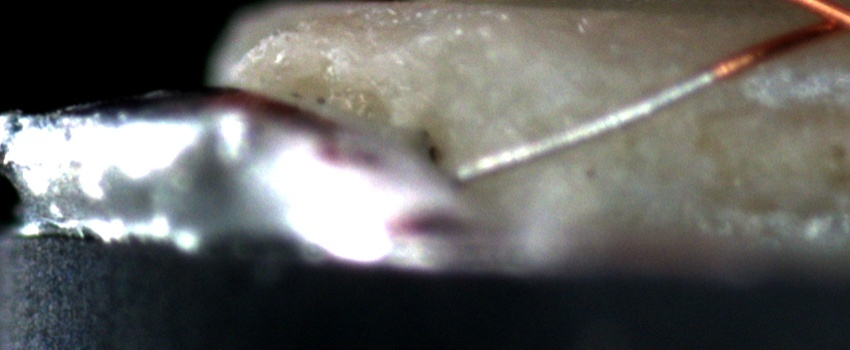DL: (604, 59, 850, 94)
TS: (452, 70, 714, 185)
